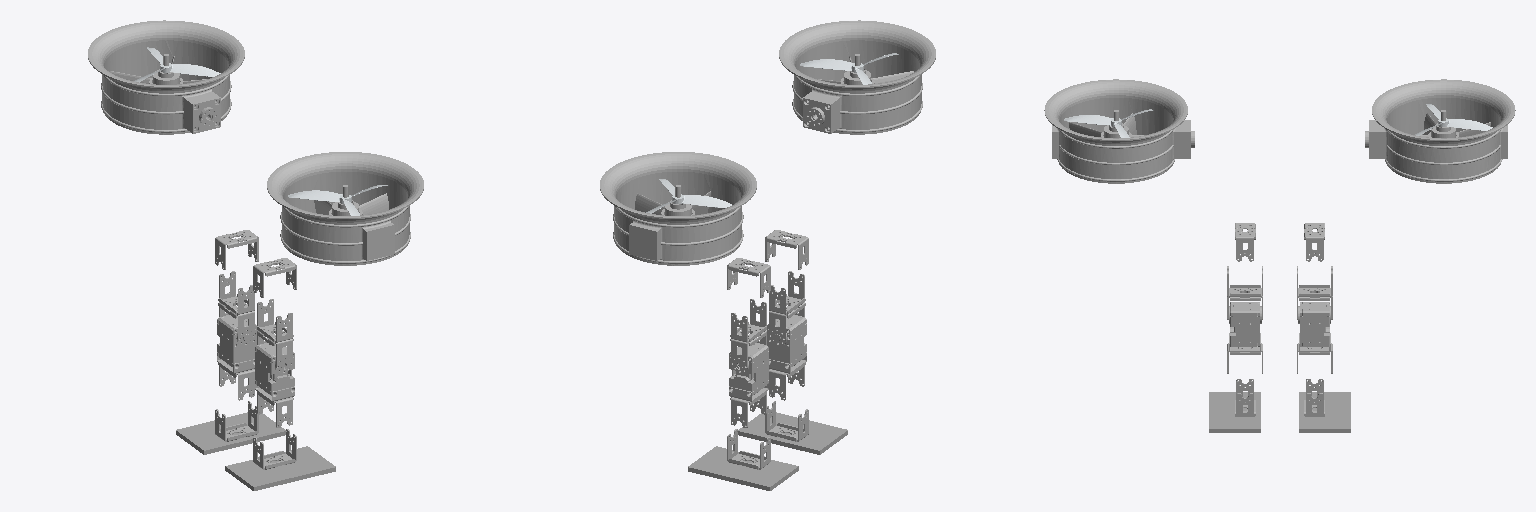
robot.urdf — flying_humanoid:
<?xml version='1.0' encoding='UTF-8'?>
<robot name="flying_humanoid" xmlns:xacro="http://www.ros.org/wiki/xacro">
  <link name="base_link">
    <inertial>
      <origin xyz="-0.00224846 -0.00001902 0.02909366" rpy="0 0 0"/>
      <mass value="0.78984767"/>
      <inertia ixx="0.00334178" ixy="-0.00000006" ixz="0.00007220" iyy="0.00098047" iyz="-0.00000010" izz="0.00269274"/>
    </inertial>
    <visual>
      <geometry>
        <mesh filename="package://flying_humanoid/meshes/base_link.dae"/>
      </geometry>
      <material name="__unnamed_material_1"/>
      <origin xyz="0.0 0.0 0.0" rpy="0.0 -0.0 0.0"/>
    </visual>
    <collision>
      <geometry>
        <mesh filename="package://flying_humanoid/meshes/base_link.stl"/>
      </geometry>
      <origin xyz="0.0 0.0 0.0" rpy="0.0 -0.0 0.0"/>
    </collision>
  </link>
  <link name="gimbal1_link">
    <inertial>
      <origin xyz="-0.00004139 0.08261737 -0.00055042" rpy="0 0 0"/>
      <mass value="0.20598654"/>
      <inertia ixx="0.00038620" ixy="0.00000008" ixz="0.00000017" iyy="0.00019258" iyz="-0.00000064" izz="0.00048391"/>
    </inertial>
    <visual>
      <geometry>
        <mesh filename="package://flying_humanoid/meshes/gimbal1_link.dae"/>
      </geometry>
      <material name="__unnamed_material_2"/>
      <origin xyz="0.0 0.0 0.0" rpy="0.0 -0.0 0.0"/>
    </visual>
    <collision>
      <geometry>
        <mesh filename="package://flying_humanoid/meshes/gimbal1_link.stl"/>
      </geometry>
      <origin xyz="0.0 0.0 0.0" rpy="0.0 -0.0 0.0"/>
    </collision>
  </link>
  <link name="thrust1">
    <inertial>
      <origin xyz="-0.00000463 0.00000427 0.00261859" rpy="0 0 0"/>
      <mass value="0.00728617"/>
      <inertia ixx="0.00000342" ixy="0.00000000" ixz="0.00000000" iyy="0.00000343" iyz="0.00000000" izz="0.00000681"/>
    </inertial>
    <visual>
      <geometry>
        <mesh filename="package://flying_humanoid/meshes/thrust1.dae"/>
      </geometry>
      <material name="__unnamed_material_3"/>
      <origin xyz="0.0 0.0 0.0" rpy="0.0 -0.0 0.0"/>
    </visual>
    <collision>
      <geometry>
        <mesh filename="package://flying_humanoid/meshes/thrust1.stl"/>
      </geometry>
      <origin xyz="0.0 0.0 0.0" rpy="0.0 -0.0 0.0"/>
    </collision>
  </link>
  <link name="gimbal2_link">
    <inertial>
      <origin xyz="0.00004142 -0.08261682 -0.00055059" rpy="0 0 0"/>
      <mass value="0.20597557"/>
      <inertia ixx="0.00038619" ixy="0.00000008" ixz="-0.00000017" iyy="0.00019256" iyz="0.00000064" izz="0.00048388"/>
    </inertial>
    <visual>
      <geometry>
        <mesh filename="package://flying_humanoid/meshes/gimbal2_link.dae"/>
      </geometry>
      <material name="__unnamed_material_4"/>
      <origin xyz="0.0 0.0 0.0" rpy="0.0 -0.0 0.0"/>
    </visual>
    <collision>
      <geometry>
        <mesh filename="package://flying_humanoid/meshes/gimbal2_link.stl"/>
      </geometry>
      <origin xyz="0.0 0.0 0.0" rpy="0.0 -0.0 0.0"/>
    </collision>
  </link>
  <link name="thrust2">
    <inertial>
      <origin xyz="0.00000400 0.00000129 0.00261866" rpy="0 0 0"/>
      <mass value="0.00728551"/>
      <inertia ixx="0.00000342" ixy="0.00000000" ixz="0.00000000" iyy="0.00000343" iyz="0.00000000" izz="0.00000681"/>
    </inertial>
    <visual>
      <geometry>
        <mesh filename="package://flying_humanoid/meshes/thrust2.dae"/>
      </geometry>
      <material name="__unnamed_material_5"/>
      <origin xyz="0.0 0.0 0.0" rpy="0.0 -0.0 0.0"/>
    </visual>
    <collision>
      <geometry>
        <mesh filename="package://flying_humanoid/meshes/thrust2.stl"/>
      </geometry>
      <origin xyz="0.0 0.0 0.0" rpy="0.0 -0.0 0.0"/>
    </collision>
  </link>
  <link name="lleg_link1">
    <inertial>
      <origin xyz="0.00000000 0.00000000 -0.00962306" rpy="0 0 0"/>
      <mass value="0.00989815"/>
      <inertia ixx="0.00000154" ixy="0.00000000" ixz="0.00000000" iyy="0.00000362" iyz="0.00000000" izz="0.00000307"/>
    </inertial>
    <visual>
      <geometry>
        <mesh filename="package://flying_humanoid/meshes/lleg_link1.dae"/>
      </geometry>
      <material name="__unnamed_material_6"/>
      <origin xyz="0.0 0.0 0.0" rpy="0.0 -0.0 0.0"/>
    </visual>
    <collision>
      <geometry>
        <mesh filename="package://flying_humanoid/meshes/lleg_link1.stl"/>
      </geometry>
      <origin xyz="0.0 0.0 0.0" rpy="0.0 -0.0 0.0"/>
    </collision>
  </link>
  <link name="lleg_link2">
    <inertial>
      <origin xyz="0.00049590 0.00049599 -0.01199985" rpy="0 0 0"/>
      <mass value="0.10245207"/>
      <inertia ixx="0.00002860" ixy="-0.00000053" ixz="0.00000004" iyy="0.00002860" iyz="-0.00000004" izz="0.00002114"/>
    </inertial>
    <visual>
      <geometry>
        <mesh filename="package://flying_humanoid/meshes/lleg_link2.dae"/>
      </geometry>
      <material name="__unnamed_material_7"/>
      <origin xyz="0.0 0.0 0.0" rpy="0.0 -0.0 0.0"/>
    </visual>
    <collision>
      <geometry>
        <mesh filename="package://flying_humanoid/meshes/lleg_link2.stl"/>
      </geometry>
      <origin xyz="0.0 0.0 0.0" rpy="0.0 -0.0 0.0"/>
    </collision>
  </link>
  <link name="lleg_link3">
    <inertial>
      <origin xyz="0.00000000 0.00000000 -0.02804525" rpy="0 0 0"/>
      <mass value="0.02071629"/>
      <inertia ixx="0.00000941" ixy="0.00000000" ixz="0.00000000" iyy="0.00000497" iyz="0.00000000" izz="0.00000651"/>
    </inertial>
    <visual>
      <geometry>
        <mesh filename="package://flying_humanoid/meshes/lleg_link3.dae"/>
      </geometry>
      <material name="__unnamed_material_8"/>
      <origin xyz="0.0 0.0 0.0" rpy="0.0 -0.0 0.0"/>
    </visual>
    <collision>
      <geometry>
        <mesh filename="package://flying_humanoid/meshes/lleg_link3.stl"/>
      </geometry>
      <origin xyz="0.0 0.0 0.0" rpy="0.0 -0.0 0.0"/>
    </collision>
  </link>
  <link name="lleg_link4">
    <inertial>
      <origin xyz="0.00000816 -0.00038198 -0.01993429" rpy="0 0 0"/>
      <mass value="0.07654634"/>
      <inertia ixx="0.00003728" ixy="0.00000000" ixz="0.00000001" iyy="0.00003188" iyz="-0.00000031" izz="0.00001527"/>
    </inertial>
    <visual>
      <geometry>
        <mesh filename="package://flying_humanoid/meshes/lleg_link4.dae"/>
      </geometry>
      <material name="__unnamed_material_9"/>
      <origin xyz="0.0 0.0 0.0" rpy="0.0 -0.0 0.0"/>
    </visual>
    <collision>
      <geometry>
        <mesh filename="package://flying_humanoid/meshes/lleg_link4.stl"/>
      </geometry>
      <origin xyz="0.0 0.0 0.0" rpy="0.0 -0.0 0.0"/>
    </collision>
  </link>
  <link name="lleg_link5">
    <inertial>
      <origin xyz="0.00049590 -0.00049599 -0.01200015" rpy="0 0 0"/>
      <mass value="0.10245207"/>
      <inertia ixx="0.00002860" ixy="0.00000053" ixz="-0.00000004" iyy="0.00002860" iyz="-0.00000004" izz="0.00002114"/>
    </inertial>
    <visual>
      <geometry>
        <mesh filename="package://flying_humanoid/meshes/lleg_link5.dae"/>
      </geometry>
      <material name="__unnamed_material_10"/>
      <origin xyz="0.0 0.0 0.0" rpy="0.0 -0.0 0.0"/>
    </visual>
    <collision>
      <geometry>
        <mesh filename="package://flying_humanoid/meshes/lleg_link5.stl"/>
      </geometry>
      <origin xyz="0.0 0.0 0.0" rpy="0.0 -0.0 0.0"/>
    </collision>
  </link>
  <link name="lleg_link6">
    <inertial>
      <origin xyz="0.00000000 0.00000000 -0.01826892" rpy="0 0 0"/>
      <mass value="0.00993815"/>
      <inertia ixx="0.00000153" ixy="0.00000000" ixz="0.00000000" iyy="0.00000370" iyz="0.00000000" izz="0.00000318"/>
    </inertial>
    <visual>
      <geometry>
        <mesh filename="package://flying_humanoid/meshes/lleg_link6.dae"/>
      </geometry>
      <material name="__unnamed_material_11"/>
      <origin xyz="0.0 0.0 0.0" rpy="0.0 -0.0 0.0"/>
    </visual>
    <collision>
      <geometry>
        <mesh filename="package://flying_humanoid/meshes/lleg_link6.stl"/>
      </geometry>
      <origin xyz="0.0 0.0 0.0" rpy="0.0 -0.0 0.0"/>
    </collision>
  </link>
  <link name="lfoot">
    <inertial>
      <origin xyz="0.00000000 -0.00288027 0.00197801" rpy="0 0 0"/>
      <mass value="0.02118678"/>
      <inertia ixx="0.00000668" ixy="0.00000000" ixz="0.00000000" iyy="0.00001577" iyz="-0.00000010" izz="0.00002235"/>
    </inertial>
    <visual>
      <geometry>
        <mesh filename="package://flying_humanoid/meshes/lfoot.dae"/>
      </geometry>
      <material name="__unnamed_material_12"/>
      <origin xyz="0.0 0.0 0.0" rpy="0.0 -0.0 0.0"/>
    </visual>
    <collision>
      <geometry>
        <mesh filename="package://flying_humanoid/meshes/lfoot.stl"/>
      </geometry>
      <origin xyz="0.0 0.0 0.0" rpy="0.0 -0.0 0.0"/>
    </collision>
  </link>
  <link name="rleg_link1">
    <inertial>
      <origin xyz="0.00000000 0.00000000 -0.00962306" rpy="0 0 0"/>
      <mass value="0.00989815"/>
      <inertia ixx="0.00000154" ixy="0.00000000" ixz="0.00000000" iyy="0.00000362" iyz="0.00000000" izz="0.00000307"/>
    </inertial>
    <visual>
      <geometry>
        <mesh filename="package://flying_humanoid/meshes/rleg_link1.dae"/>
      </geometry>
      <material name="__unnamed_material_13"/>
      <origin xyz="0.0 0.0 0.0" rpy="0.0 -0.0 0.0"/>
    </visual>
    <collision>
      <geometry>
        <mesh filename="package://flying_humanoid/meshes/rleg_link1.stl"/>
      </geometry>
      <origin xyz="0.0 0.0 0.0" rpy="0.0 -0.0 0.0"/>
    </collision>
  </link>
  <link name="rleg_link2">
    <inertial>
      <origin xyz="0.00049590 0.00049599 -0.01199985" rpy="0 0 0"/>
      <mass value="0.10245207"/>
      <inertia ixx="0.00002860" ixy="-0.00000053" ixz="0.00000004" iyy="0.00002860" iyz="-0.00000004" izz="0.00002114"/>
    </inertial>
    <visual>
      <geometry>
        <mesh filename="package://flying_humanoid/meshes/rleg_link2.dae"/>
      </geometry>
      <material name="__unnamed_material_14"/>
      <origin xyz="0.0 0.0 0.0" rpy="0.0 -0.0 0.0"/>
    </visual>
    <collision>
      <geometry>
        <mesh filename="package://flying_humanoid/meshes/rleg_link2.stl"/>
      </geometry>
      <origin xyz="0.0 0.0 0.0" rpy="0.0 -0.0 0.0"/>
    </collision>
  </link>
  <link name="rleg_link3">
    <inertial>
      <origin xyz="0.00000000 0.00000000 -0.02804525" rpy="0 0 0"/>
      <mass value="0.02071629"/>
      <inertia ixx="0.00000941" ixy="0.00000000" ixz="0.00000000" iyy="0.00000497" iyz="0.00000000" izz="0.00000651"/>
    </inertial>
    <visual>
      <geometry>
        <mesh filename="package://flying_humanoid/meshes/rleg_link3.dae"/>
      </geometry>
      <material name="__unnamed_material_15"/>
      <origin xyz="0.0 0.0 0.0" rpy="0.0 -0.0 0.0"/>
    </visual>
    <collision>
      <geometry>
        <mesh filename="package://flying_humanoid/meshes/rleg_link3.stl"/>
      </geometry>
      <origin xyz="0.0 0.0 0.0" rpy="0.0 -0.0 0.0"/>
    </collision>
  </link>
  <link name="rleg_link4">
    <inertial>
      <origin xyz="-0.00000816 0.00038198 -0.01993429" rpy="0 0 0"/>
      <mass value="0.07654634"/>
      <inertia ixx="0.00003728" ixy="0.00000000" ixz="-0.00000001" iyy="0.00003188" iyz="0.00000031" izz="0.00001527"/>
    </inertial>
    <visual>
      <geometry>
        <mesh filename="package://flying_humanoid/meshes/rleg_link4.dae"/>
      </geometry>
      <material name="__unnamed_material_16"/>
      <origin xyz="0.0 0.0 0.0" rpy="0.0 -0.0 0.0"/>
    </visual>
    <collision>
      <geometry>
        <mesh filename="package://flying_humanoid/meshes/rleg_link4.stl"/>
      </geometry>
      <origin xyz="0.0 0.0 0.0" rpy="0.0 -0.0 0.0"/>
    </collision>
  </link>
  <link name="rleg_link5">
    <inertial>
      <origin xyz="0.00049590 -0.00049599 -0.01200015" rpy="0 0 0"/>
      <mass value="0.10245207"/>
      <inertia ixx="0.00002860" ixy="0.00000053" ixz="-0.00000004" iyy="0.00002860" iyz="-0.00000004" izz="0.00002114"/>
    </inertial>
    <visual>
      <geometry>
        <mesh filename="package://flying_humanoid/meshes/rleg_link5.dae"/>
      </geometry>
      <material name="__unnamed_material_17"/>
      <origin xyz="0.0 0.0 0.0" rpy="0.0 -0.0 0.0"/>
    </visual>
    <collision>
      <geometry>
        <mesh filename="package://flying_humanoid/meshes/rleg_link5.stl"/>
      </geometry>
      <origin xyz="0.0 0.0 0.0" rpy="0.0 -0.0 0.0"/>
    </collision>
  </link>
  <link name="rleg_link6">
    <inertial>
      <origin xyz="0.00000000 0.00000000 -0.01826892" rpy="0 0 0"/>
      <mass value="0.00993815"/>
      <inertia ixx="0.00000153" ixy="0.00000000" ixz="0.00000000" iyy="0.00000370" iyz="0.00000000" izz="0.00000318"/>
    </inertial>
    <visual>
      <geometry>
        <mesh filename="package://flying_humanoid/meshes/rleg_link6.dae"/>
      </geometry>
      <material name="__unnamed_material_18"/>
      <origin xyz="0.0 0.0 0.0" rpy="0.0 -0.0 0.0"/>
    </visual>
    <collision>
      <geometry>
        <mesh filename="package://flying_humanoid/meshes/rleg_link6.stl"/>
      </geometry>
      <origin xyz="0.0 0.0 0.0" rpy="0.0 -0.0 0.0"/>
    </collision>
  </link>
  <link name="rfoot">
    <inertial>
      <origin xyz="0.00000000 0.00288027 0.00197801" rpy="0 0 0"/>
      <mass value="0.02118678"/>
      <inertia ixx="0.00000668" ixy="0.00000000" ixz="0.00000000" iyy="0.00001577" iyz="0.00000010" izz="0.00002235"/>
    </inertial>
    <visual>
      <geometry>
        <mesh filename="package://flying_humanoid/meshes/rfoot.dae"/>
      </geometry>
      <material name="__unnamed_material_19"/>
      <origin xyz="0.0 0.0 0.0" rpy="0.0 -0.0 0.0"/>
    </visual>
    <collision>
      <geometry>
        <mesh filename="package://flying_humanoid/meshes/rfoot.stl"/>
      </geometry>
      <origin xyz="0.0 0.0 0.0" rpy="0.0 -0.0 0.0"/>
    </collision>
  </link>
  <link name="fc">
    <inertial>
      <origin xyz="0.018700271177596 0.00169857185112369 -0.00124990288626402" rpy="0.0 -0.0 0.0"/>
      <mass value="0.0134869851248582"/>
      <inertia ixx="1.81746685538948e-06" ixy="3.52111680831127e-09" ixz="2.41443527349819e-11" iyy="1.81309403255538e-06" iyz="-1.82051260573361e-10" izz="3.61332371662352e-06"/>
    </inertial>
    <visual>
      <geometry>
        <mesh filename="package://flying_humanoid/meshes/fc.dae"/>
      </geometry>
      <material name="__unnamed_material_20"/>
      <origin xyz="0.0 0.0 0.0" rpy="0.0 -0.0 0.0"/>
    </visual>
    <collision>
      <geometry>
        <mesh filename="package://flying_humanoid/meshes/fc.stl"/>
      </geometry>
      <origin xyz="0.0 0.0 0.0" rpy="0.0 -0.0 0.0"/>
    </collision>
  </link>
  <link name="t265_frame">
    <inertial>
      <origin xyz="-0.00700380987251569 -0.00786870861487862 9.17549427268023e-06" rpy="0.0 -0.0 0.0"/>
      <mass value="0.0460652917242895"/>
      <inertia ixx="4.18088546802354e-05" ixy="-4.04412980733102e-08" ixz="-5.71953018076098e-09" iyy="2.82428477798397e-06" iyz="1.30056124453492e-08" izz="3.97201471297608e-05"/>
    </inertial>
    <visual>
      <geometry>
        <mesh filename="package://flying_humanoid/meshes/t265_frame.dae"/>
      </geometry>
      <material name="__unnamed_material_21"/>
      <origin xyz="0.0 0.0 0.0" rpy="0.0 -0.0 0.0"/>
    </visual>
    <collision>
      <geometry>
        <mesh filename="package://flying_humanoid/meshes/t265_frame.stl"/>
      </geometry>
      <origin xyz="0.0 0.0 0.0" rpy="0.0 -0.0 0.0"/>
    </collision>
  </link>
  <joint name="gimbal1" type="revolute">
    <limit effort="1.5" velocity="6.0" lower="-6.28" upper="6.28"/>
    <parent link="base_link"/>
    <child link="gimbal1_link"/>
    <axis xyz="0. 1. 0."/>
    <origin xyz="-0.00020126 0.0975 0.07725" rpy="0.0 -0.0 0.0"/>
  </joint>
  <joint name="rotor1" type="continuous">
    <limit effort="100.0" velocity="0.0" lower="0.0" upper="20.0"/>
    <parent link="gimbal1_link"/>
    <child link="thrust1"/>
    <axis xyz="0. 0. 1."/>
    <origin xyz="0.0 0.0905 0.018" rpy="0.0 -0.0 0.0"/>
  </joint>
  <joint name="gimbal2" type="revolute">
    <limit effort="1.5" velocity="6.0" lower="-6.28" upper="6.28"/>
    <parent link="base_link"/>
    <child link="gimbal2_link"/>
    <axis xyz="0. 1. 0."/>
    <origin xyz="-0.00020126 -0.0975 0.07725" rpy="0.0 -0.0 0.0"/>
  </joint>
  <joint name="rotor2" type="continuous">
    <limit effort="100.0" velocity="0.0" lower="0.0" upper="20.0"/>
    <parent link="gimbal2_link"/>
    <child link="thrust2"/>
    <axis xyz=" 0.  0. -1."/>
    <origin xyz="0.0 -0.0905 0.018" rpy="0.0 -0.0 0.0"/>
  </joint>
  <joint name="lleg_joint1" type="revolute">
    <limit effort="1.5" velocity="6.0" lower="-1.57" upper="1.57"/>
    <parent link="base_link"/>
    <child link="lleg_link1"/>
    <axis xyz="0. 0. 1."/>
    <origin xyz="-0.00020126 0.04 -0.0375" rpy="0.0 -0.0 0.0"/>
  </joint>
  <joint name="lleg_joint2" type="revolute">
    <limit effort="1.8" velocity="6.0" lower="-1.57" upper="1.57"/>
    <parent link="lleg_link1"/>
    <child link="lleg_link2"/>
    <axis xyz="1. 0. 0."/>
    <origin xyz="0.0 0.0 -0.028" rpy="0.0 -0.0 0.0"/>
  </joint>
  <joint name="lleg_joint3" type="revolute">
    <limit effort="1.8" velocity="6.0" lower="-1.85" upper="2.0"/>
    <parent link="lleg_link2"/>
    <child link="lleg_link3"/>
    <axis xyz="0. 1. 0."/>
    <origin xyz="0.0 0.0 -0.024" rpy="0.0 -0.0 0.0"/>
  </joint>
  <joint name="lleg_joint4" type="revolute">
    <limit effort="1.5" velocity="6.0" lower="-2.0" upper="2.0"/>
    <parent link="lleg_link3"/>
    <child link="lleg_link4"/>
    <axis xyz="0. 1. 0."/>
    <origin xyz="0.0 0.0 -0.056" rpy="0.0 -0.0 0.0"/>
  </joint>
  <joint name="lleg_joint5" type="revolute">
    <limit effort="1.8" velocity="6.0" lower="-1.7" upper="1.7"/>
    <parent link="lleg_link4"/>
    <child link="lleg_link5"/>
    <axis xyz="0. 1. 0."/>
    <origin xyz="0.0 0.0 -0.0685" rpy="0.0 -0.0 0.0"/>
  </joint>
  <joint name="lleg_joint6" type="revolute">
    <limit effort="1.8" velocity="6.0" lower="-1.75" upper="1.75"/>
    <parent link="lleg_link5"/>
    <child link="lleg_link6"/>
    <axis xyz="1. 0. 0."/>
    <origin xyz="0.0 0.0 -0.024" rpy="0.0 -0.0 0.0"/>
  </joint>
  <joint name="lfoot_joint" type="fixed">
    <limit effort="0.0" velocity="0.0"/>
    <parent link="lleg_link6"/>
    <child link="lfoot"/>
    <axis xyz="0. 0. 0."/>
    <origin xyz="0.0 0.012 -0.033" rpy="0.0 -0.0 0.0"/>
  </joint>
  <joint name="rleg_joint1" type="revolute">
    <limit effort="1.5" velocity="6.0" lower="-1.57" upper="1.57"/>
    <parent link="base_link"/>
    <child link="rleg_link1"/>
    <axis xyz="0. 0. 1."/>
    <origin xyz="-0.00020126 -0.04 -0.0375" rpy="0.0 -0.0 0.0"/>
  </joint>
  <joint name="rleg_joint2" type="revolute">
    <limit effort="1.8" velocity="6.0" lower="-1.57" upper="1.57"/>
    <parent link="rleg_link1"/>
    <child link="rleg_link2"/>
    <axis xyz="1. 0. 0."/>
    <origin xyz="0.0 0.0 -0.028" rpy="0.0 -0.0 0.0"/>
  </joint>
  <joint name="rleg_joint3" type="revolute">
    <limit effort="1.8" velocity="6.0" lower="-1.85" upper="2.0"/>
    <parent link="rleg_link2"/>
    <child link="rleg_link3"/>
    <axis xyz="0. 1. 0."/>
    <origin xyz="0.0 0.0 -0.024" rpy="0.0 -0.0 0.0"/>
  </joint>
  <joint name="rleg_joint4" type="revolute">
    <limit effort="1.5" velocity="6.0" lower="-2.0" upper="2.0"/>
    <parent link="rleg_link3"/>
    <child link="rleg_link4"/>
    <axis xyz="0. 1. 0."/>
    <origin xyz="0.0 0.0 -0.056" rpy="0.0 -0.0 0.0"/>
  </joint>
  <joint name="rleg_joint5" type="revolute">
    <limit effort="1.8" velocity="6.0" lower="-1.7" upper="1.7"/>
    <parent link="rleg_link4"/>
    <child link="rleg_link5"/>
    <axis xyz="0. 1. 0."/>
    <origin xyz="0.0 0.0 -0.0685" rpy="0.0 -0.0 0.0"/>
  </joint>
  <joint name="rleg_joint6" type="revolute">
    <limit effort="1.8" velocity="6.0" lower="-1.75" upper="1.75"/>
    <parent link="rleg_link5"/>
    <child link="rleg_link6"/>
    <axis xyz="1. 0. 0."/>
    <origin xyz="0.0 0.0 -0.024" rpy="0.0 -0.0 0.0"/>
  </joint>
  <joint name="rfoot_joint" type="fixed">
    <limit effort="0.0" velocity="0.0"/>
    <parent link="rleg_link6"/>
    <child link="rfoot"/>
    <axis xyz="0. 0. 0."/>
    <origin xyz="0.0 -0.012 -0.033" rpy="0.0 -0.0 0.0"/>
  </joint>
  <joint name="fc_joint" type="fixed">
    <limit effort="0.0" velocity="0.0"/>
    <parent link="base_link"/>
    <child link="fc"/>
    <axis xyz="0. 0. 0."/>
    <origin xyz="-0.017501 -0.0011 0.057927" rpy="0.0 -0.0 0.0"/>
  </joint>
  <joint name="t265_frame_joint" type="fixed">
    <limit effort="0.0" velocity="0.0"/>
    <parent link="base_link"/>
    <child link="t265_frame"/>
    <axis xyz="0. 0. 0."/>
    <origin xyz="0.043749 0.00875 0.013" rpy="0.0 -0.0 0.0"/>
  </joint>
  <material name="__unnamed_material_1">
    <color rgba="0.75294118 0.75294118 0.75294118 1.        "/>
  </material>
  <material name="__unnamed_material_2">
    <color rgba="0.75294118 0.75294118 0.75294118 1.        "/>
  </material>
  <material name="__unnamed_material_3">
    <color rgba="0.89803922 0.91764706 0.92941176 1.        "/>
  </material>
  <material name="__unnamed_material_4">
    <color rgba="0.75294118 0.75294118 0.75294118 1.        "/>
  </material>
  <material name="__unnamed_material_5">
    <color rgba="0.89803922 0.91764706 0.92941176 1.        "/>
  </material>
  <material name="__unnamed_material_6">
    <color rgba="0.75294118 0.75294118 0.75294118 1.        "/>
  </material>
  <material name="__unnamed_material_7">
    <color rgba="0.75294118 0.75294118 0.75294118 1.        "/>
  </material>
  <material name="__unnamed_material_8">
    <color rgba="0.75294118 0.75294118 0.75294118 1.        "/>
  </material>
  <material name="__unnamed_material_9">
    <color rgba="0.75294118 0.75294118 0.75294118 1.        "/>
  </material>
  <material name="__unnamed_material_10">
    <color rgba="0.75294118 0.75294118 0.75294118 1.        "/>
  </material>
  <material name="__unnamed_material_11">
    <color rgba="0.75294118 0.75294118 0.75294118 1.        "/>
  </material>
  <material name="__unnamed_material_12">
    <color rgba="0.69803922 0.69803922 0.69803922 1.        "/>
  </material>
  <material name="__unnamed_material_13">
    <color rgba="0.75294118 0.75294118 0.75294118 1.        "/>
  </material>
  <material name="__unnamed_material_14">
    <color rgba="0.75294118 0.75294118 0.75294118 1.        "/>
  </material>
  <material name="__unnamed_material_15">
    <color rgba="0.75294118 0.75294118 0.75294118 1.        "/>
  </material>
  <material name="__unnamed_material_16">
    <color rgba="0.75294118 0.75294118 0.75294118 1.        "/>
  </material>
  <material name="__unnamed_material_17">
    <color rgba="0.75294118 0.75294118 0.75294118 1.        "/>
  </material>
  <material name="__unnamed_material_18">
    <color rgba="0.75294118 0.75294118 0.75294118 1.        "/>
  </material>
  <material name="__unnamed_material_19">
    <color rgba="0.69803922 0.69803922 0.69803922 1.        "/>
  </material>
  <material name="__unnamed_material_20">
    <color rgba="1. 1. 1. 1."/>
  </material>
  <material name="__unnamed_material_21">
    <color rgba="1. 1. 1. 1."/>
  </material>
</robot>

--- Facts derived from the render (not from the file) ---
Views: 3 orthographic renders of the robot side by side, from view 1: azimuth 30°, elevation 25°; view 2: azimuth 150°, elevation 25°; view 3: azimuth 270°, elevation 25°.
Model flying_humanoid with 21 links and 20 joints (14 revolute, 2 continuous, 4 fixed), rooted at base_link, posed all joints at 0.
Visible links, largest first — view 1: gimbal1_link, gimbal2_link, rleg_link4, lleg_link4, rfoot, lfoot, rleg_link3, lleg_link3, rleg_link6, lleg_link1, rleg_link1, lleg_link6 (+2 smaller); view 2: gimbal2_link, gimbal1_link, lleg_link4, rleg_link4, lfoot, rfoot, lleg_link3, rleg_link3, lleg_link6, rleg_link1, lleg_link1, rleg_link6 (+2 smaller); view 3: gimbal1_link, gimbal2_link, lleg_link4, rleg_link4, lfoot, rfoot, lleg_link3, rleg_link3, lleg_link1, rleg_link1, lleg_link6, rleg_link6 (+2 smaller).
Link boxes in pixels (bbox=[...]): gimbal1_link: bbox=[88, 20, 244, 134]; gimbal2_link: bbox=[267, 152, 423, 265]; rleg_link4: bbox=[255, 343, 294, 427]; lleg_link4: bbox=[217, 315, 256, 400]; rfoot: bbox=[225, 446, 335, 490]; lfoot: bbox=[176, 412, 285, 454]; rleg_link3: bbox=[257, 299, 293, 368]; lleg_link3: bbox=[218, 271, 254, 340]; rleg_link6: bbox=[253, 429, 296, 469]; lleg_link1: bbox=[215, 230, 258, 269]; rleg_link1: bbox=[253, 258, 296, 297]; lleg_link6: bbox=[215, 401, 258, 441]; gimbal2_link: bbox=[779, 20, 935, 134]; gimbal1_link: bbox=[600, 152, 756, 265]; lleg_link4: bbox=[729, 343, 768, 427]; rleg_link4: bbox=[767, 315, 806, 400]; lfoot: bbox=[688, 446, 798, 490]; rfoot: bbox=[738, 412, 847, 454]; lleg_link3: bbox=[730, 299, 766, 368]; rleg_link3: bbox=[769, 271, 805, 340]; lleg_link6: bbox=[727, 429, 770, 469]; rleg_link1: bbox=[765, 230, 808, 269]; lleg_link1: bbox=[727, 258, 770, 297]; rleg_link6: bbox=[765, 401, 808, 441]; gimbal1_link: bbox=[1365, 79, 1515, 183]; gimbal2_link: bbox=[1044, 79, 1194, 183]; lleg_link4: bbox=[1297, 302, 1332, 373]; rleg_link4: bbox=[1227, 302, 1262, 373]; lfoot: bbox=[1299, 392, 1350, 432]; rfoot: bbox=[1209, 392, 1260, 432]; lleg_link3: bbox=[1297, 266, 1332, 319]; rleg_link3: bbox=[1227, 266, 1262, 319]; lleg_link1: bbox=[1304, 223, 1324, 261]; rleg_link1: bbox=[1235, 223, 1255, 261]; lleg_link6: bbox=[1304, 379, 1324, 416]; rleg_link6: bbox=[1235, 379, 1255, 416].
Bounding box of the posed robot: 0.165 × 0.541 × 0.3857 m (x, y, z).
14 mesh visuals loaded from 21 distinct referenced files (14 Collada DAE); not drawn: 7 (reference not matched to a file when rendering).
